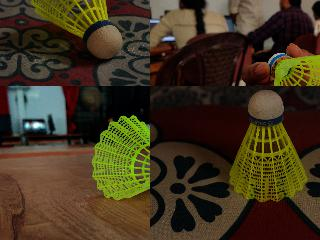shuttlecock: (228, 90, 306, 202), (30, 0, 122, 60), (91, 112, 149, 201), (266, 52, 319, 85)
